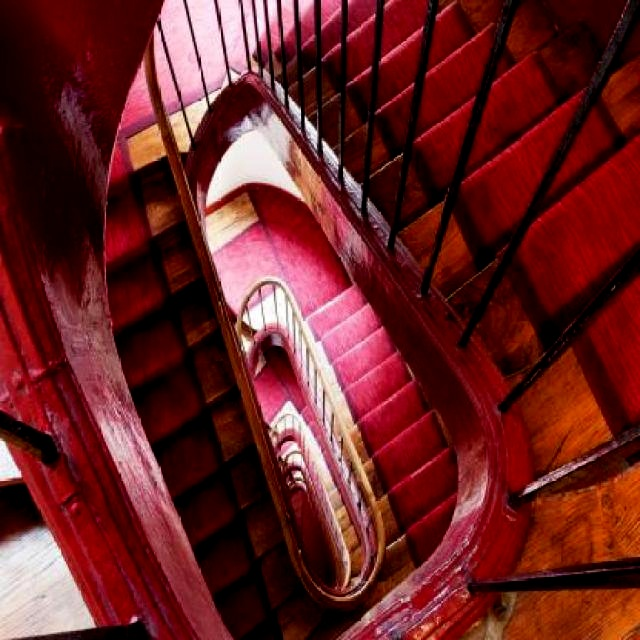stair: (1, 0, 640, 638)
